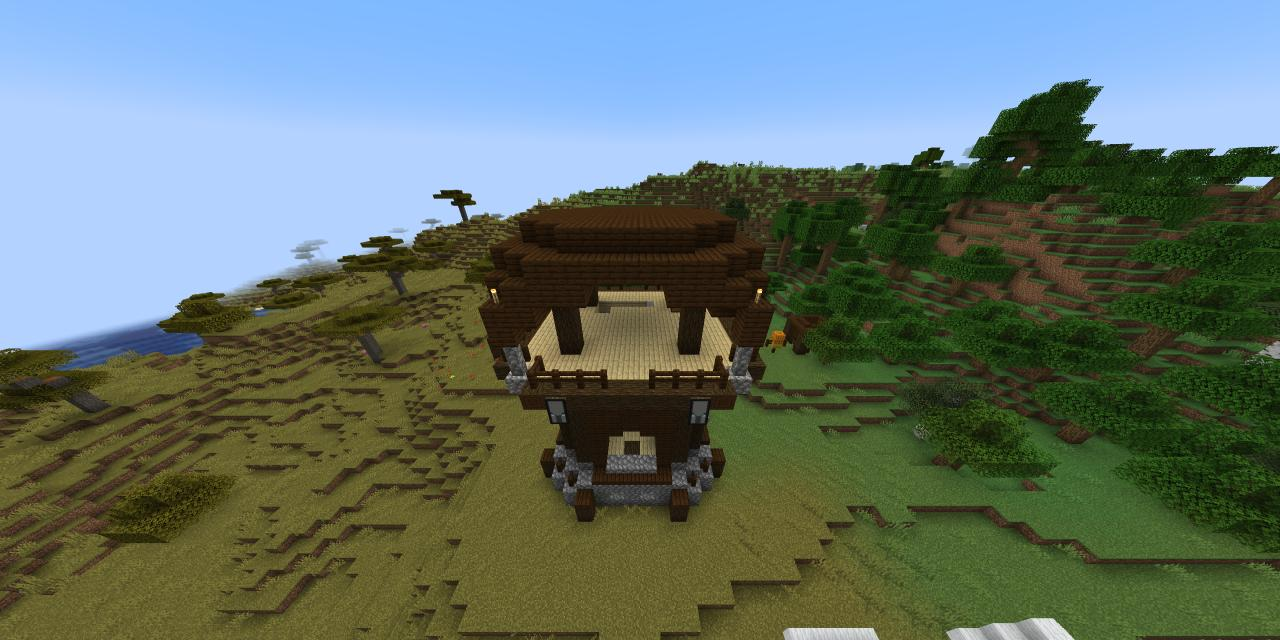pillager outpost: (477, 193, 781, 541)
